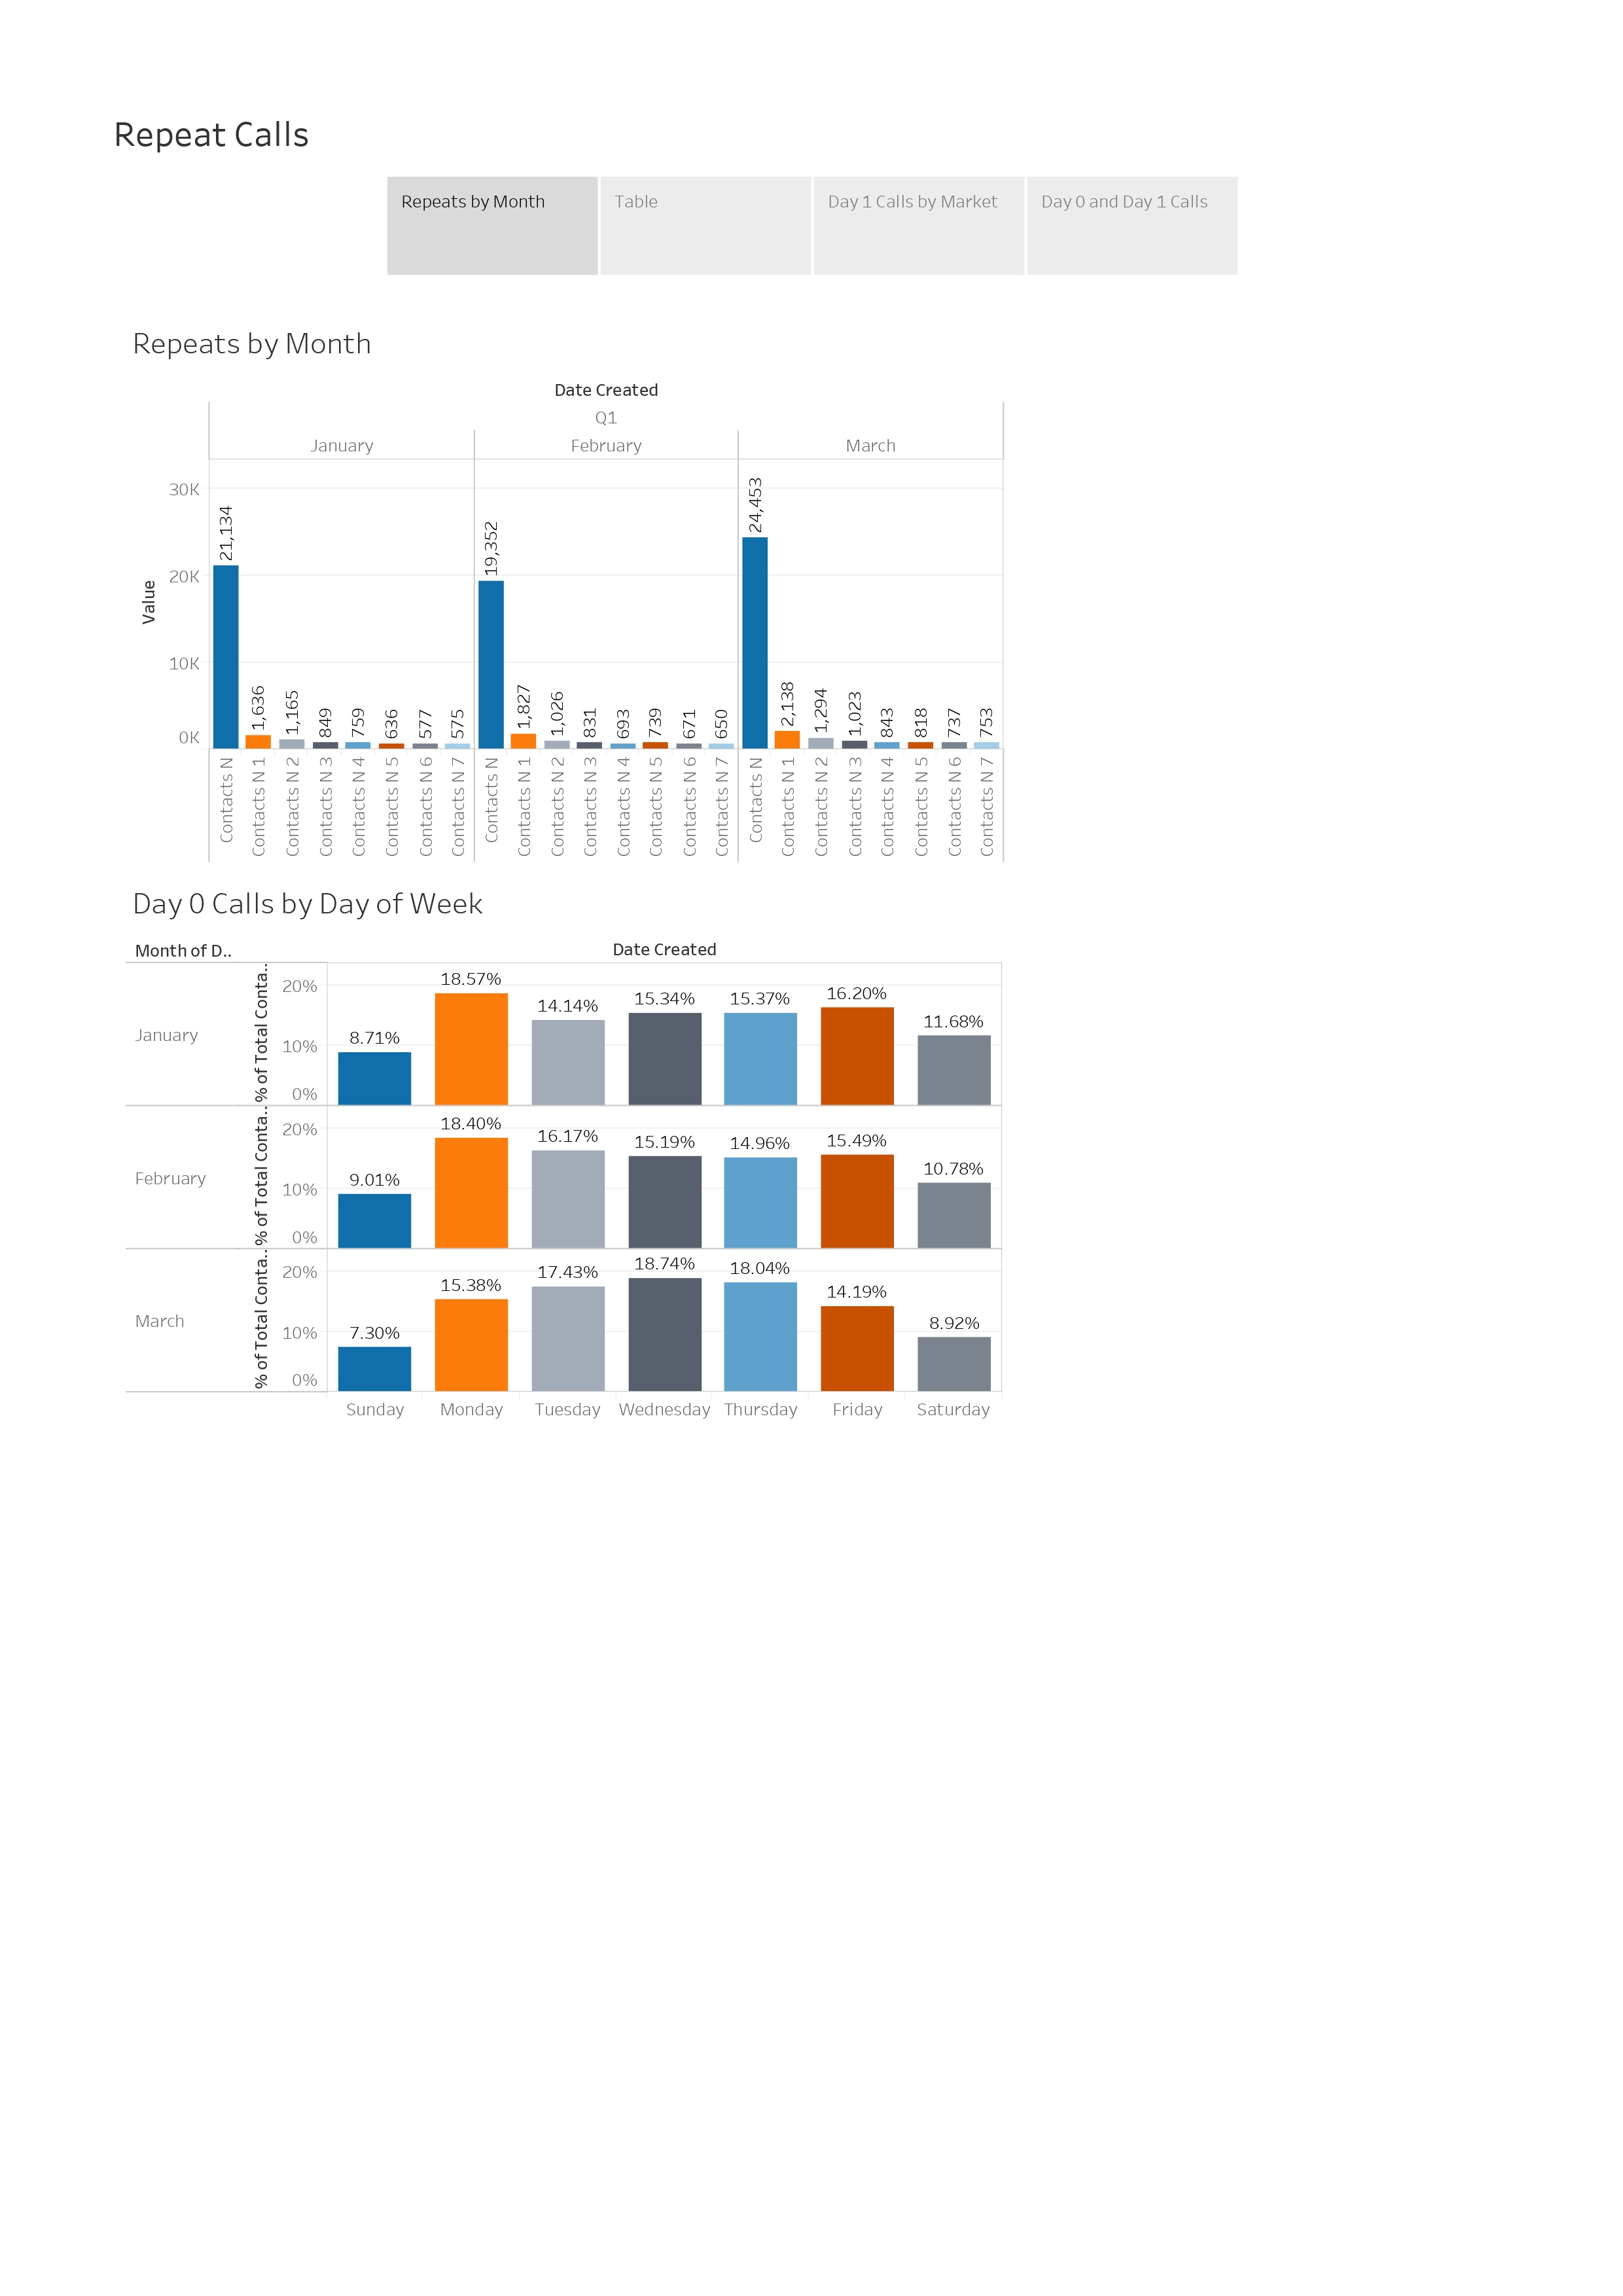

The page's visual inventory and layout, read from the dashboard file:
{"tool":"tableau","page":{"name":"Dashboard 3","canvas":[650,860],"ordinal":2},"visuals":[{"type":"worksheet","title":"Repeats by Month","mark":"Bar","cols":["date_created","date_created"],"box":[8,8,634,422]},{"type":"worksheet","title":"% Day 0 Repeats by Day of Week","mark":"Bar","rows":["date_created"],"cols":["date_created"],"box":[8,430,634,422]}]}

Visuals, with their boxes on the page's 650x860 design canvas (x1, y1, x2, y2). These are canvas units, not pixel positions in the 1623x2296 screenshot, which may show the page scaled, cropped or inside an application window:
"Repeats by Month" worksheet (Bar marks): (8,8,642,430)
"% Day 0 Repeats by Day of Week" worksheet (Bar marks): (8,430,642,852)
